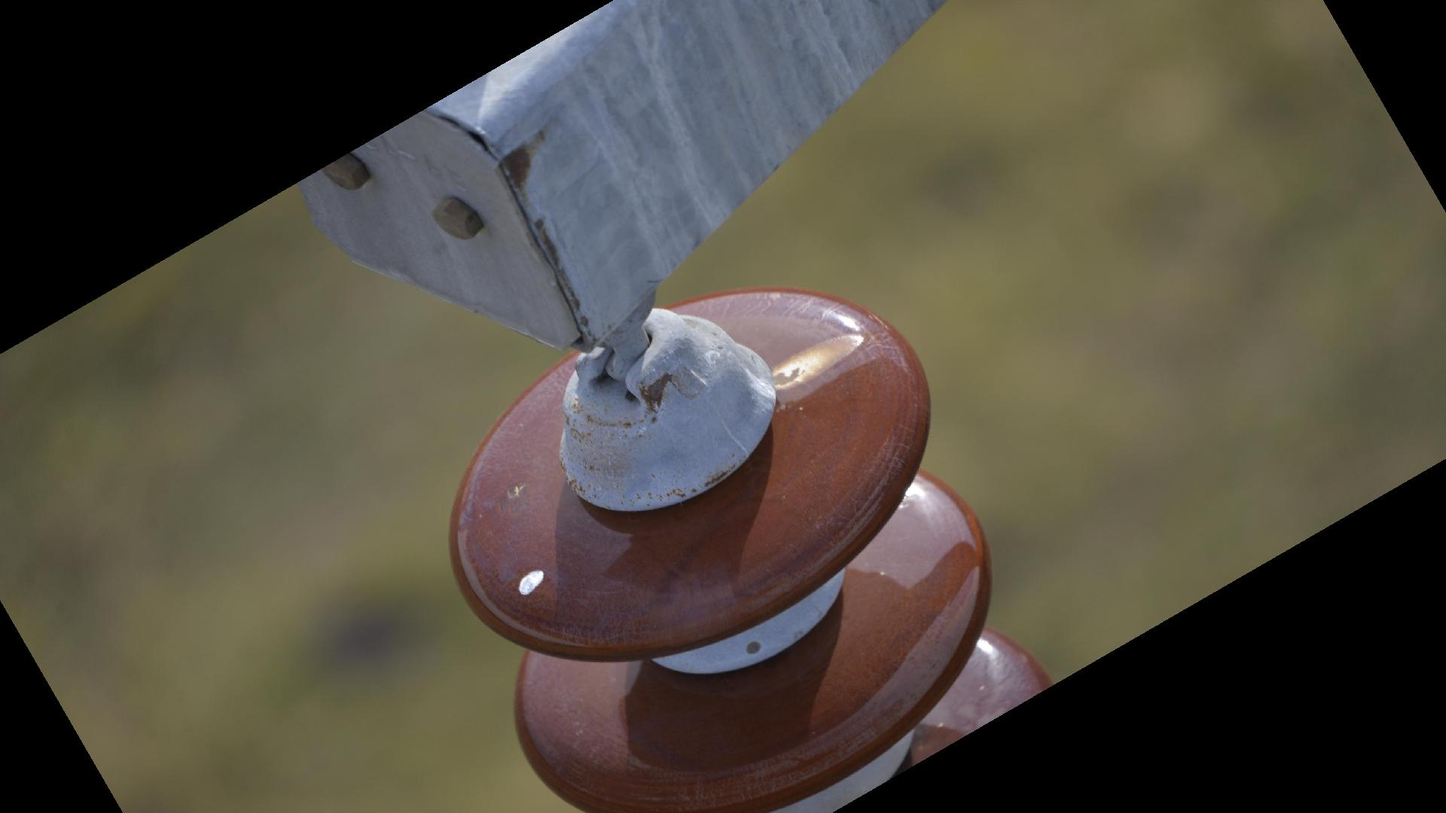insulator: (441, 279, 1056, 813)
insulator_flashover: (758, 324, 876, 410)
